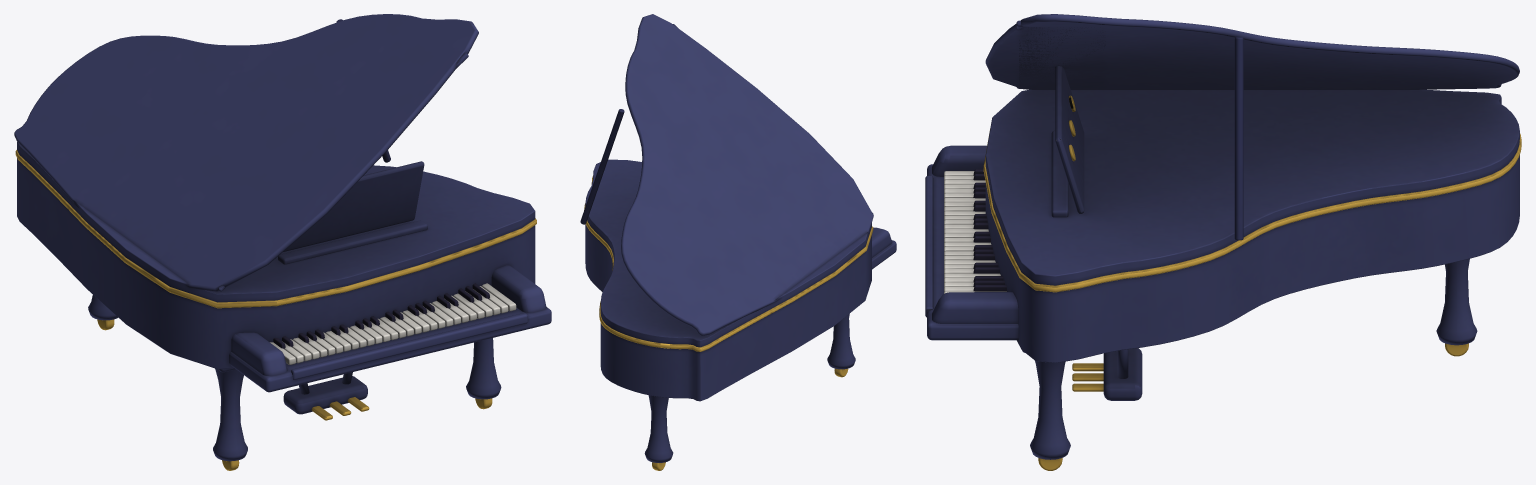
File: GrandPiano.fbx
The picture shows the model from 3 angles, left to right: view 1: azimuth 30°, elevation 25°; view 2: azimuth 150°, elevation 25°; view 3: azimuth 270°, elevation 25°; orthographic projection. The views are drawn at different scales.
Parts seen in each view (by area): view 1: Lid_Mesh, GrandPiano_Body; view 2: Lid_Mesh, GrandPiano_Body; view 3: GrandPiano_Body, Lid_Mesh.
Part boxes in pixels (x1,y1,x2,y2): Lid_Mesh: (14,14,478,291); GrandPiano_Body: (15,19,551,470); Lid_Mesh: (621,14,873,335); GrandPiano_Body: (580,109,896,470); GrandPiano_Body: (925,37,1521,470); Lid_Mesh: (985,14,1519,89).
Bounding box in the file's own units: 1.95 × 2.05 × 2.47.
